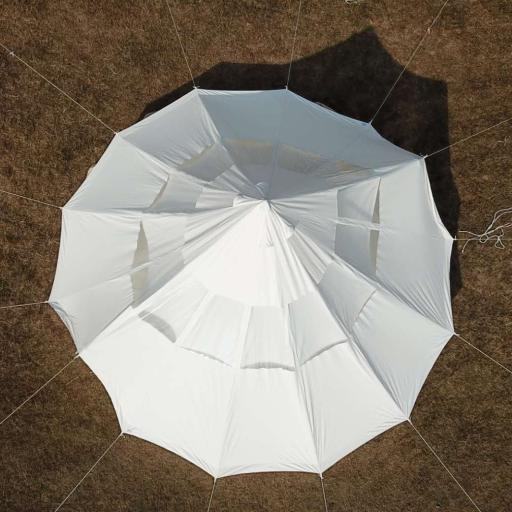Tent: (42, 90, 459, 474)
